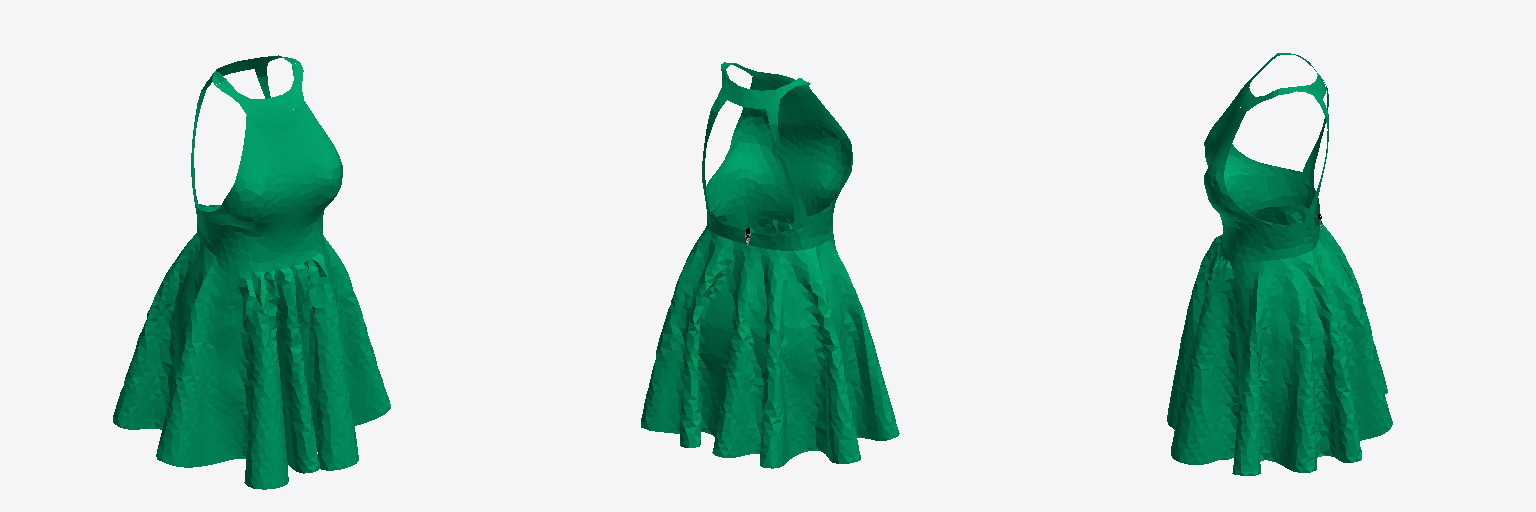
The picture shows the model from 3 angles: view 1: azimuth 30°, elevation 25°; view 2: azimuth 150°, elevation 25°; view 3: azimuth 270°, elevation 25°; orthographic projection.
Visible parts, largest first — view 1: small_greenDress:Mesh; view 2: small_greenDress:Mesh; view 3: small_greenDress:Mesh.
Part boxes in pixels (bbox=[...]): small_greenDress:Mesh: bbox=[113, 55, 390, 489]; small_greenDress:Mesh: bbox=[641, 62, 899, 468]; small_greenDress:Mesh: bbox=[1167, 53, 1392, 475].
Bounding box in the file's own units: 509 × 776 × 427.
14 materials, 2 textured.